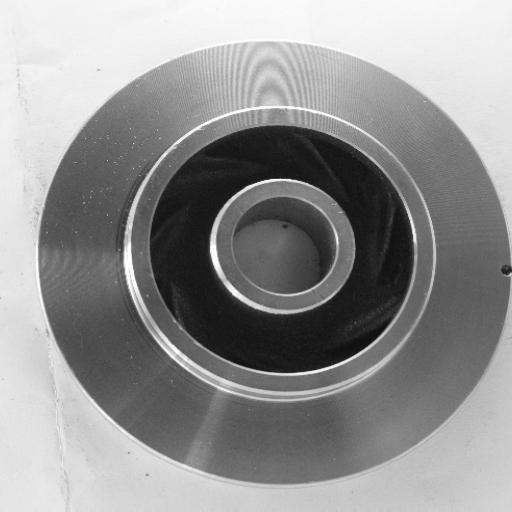pit: (489, 256, 512, 281)
unpolished_casting: (33, 38, 512, 488)
